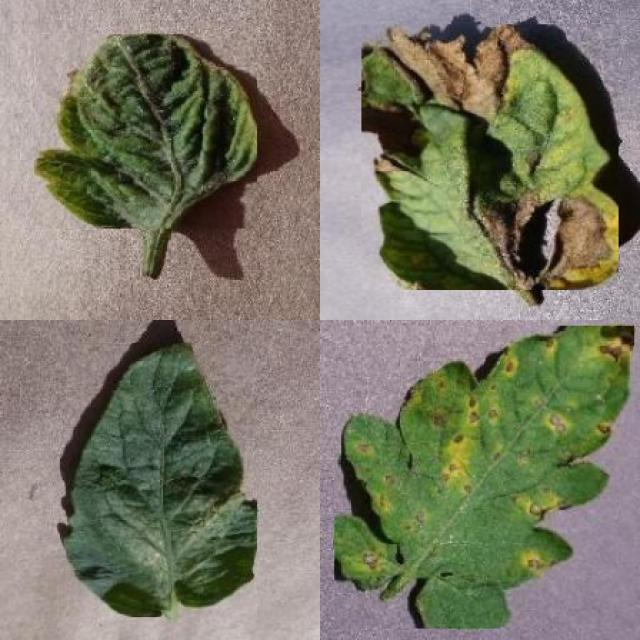Late Blight: (362, 25, 618, 291)
Septoria: (334, 325, 635, 629)
Spider Mites: (66, 343, 257, 617)
Yellow Leaf Curl Virus: (35, 34, 258, 229)
